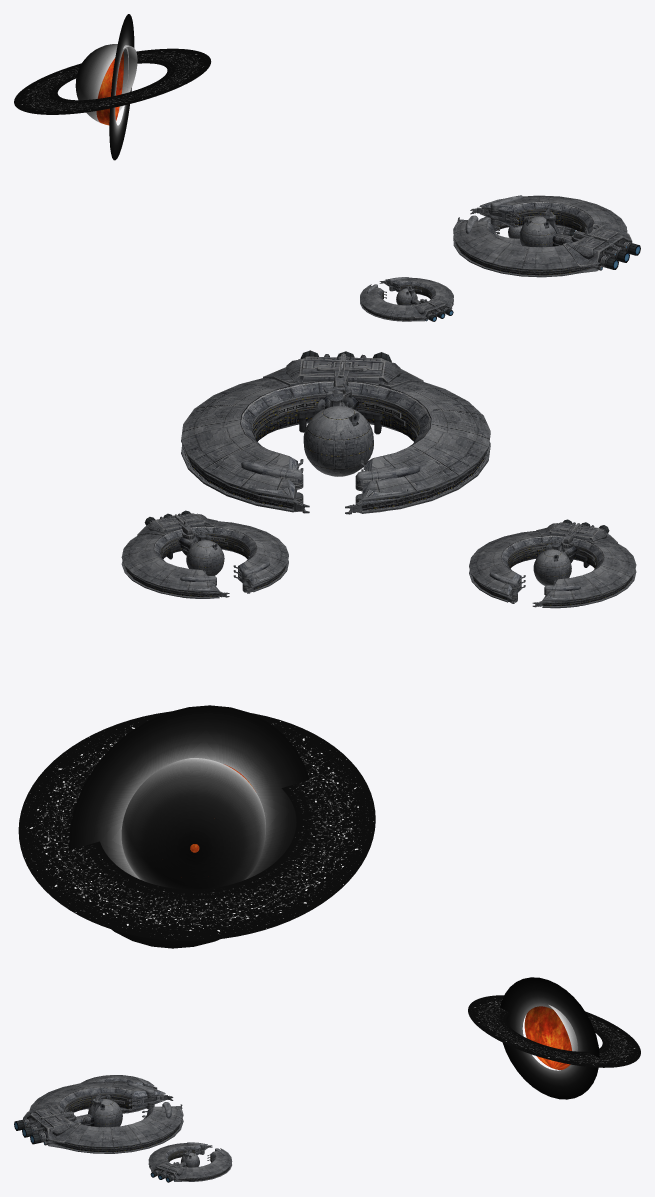
File: env_space_geonosis_01b_pre.glb
The picture shows the model from 3 angles, top to bottom: view 1: azimuth 30°, elevation 25°; view 2: azimuth 150°, elevation 25°; view 3: azimuth 270°, elevation 25°; orthographic projection. The views are drawn at different scales.
Visible parts, largest first — view 1: unit_ship_tradefederation_battleship_mesh (×2), planet_ring_01, planet_fresnel_mesh, planet_glow_mesh, unit_ship_tradefederation_battleship_c_mesh (3), planet_body_mesh; view 2: unit_ship_tradefederation_battleship_mesh (×3), planet_ring_01, planet_glow_mesh, planet_fresnel_mesh, unit_ship_tradefederation_battleship_c_mesh (3), unit_ship_tradefederation_battleship_c_mesh (1), unit_ship_tradefederation_battleship_c_mesh (2); view 3: unit_ship_tradefederation_battleship_mesh (×3), planet_glow_mesh, planet_ring_01, planet_body_mesh, unit_ship_tradefederation_battleship_c_mesh (3), planet_fresnel_mesh.
Part boxes in pixels (x1,y1,x2,y2): unit_ship_tradefederation_battleship_mesh (×2): (360, 195, 640, 321); planet_ring_01: (14, 48, 211, 114); planet_fresnel_mesh: (75, 44, 137, 123); planet_glow_mesh: (109, 14, 134, 160); unit_ship_tradefederation_battleship_c_mesh (3): (519, 207, 558, 247); planet_body_mesh: (96, 51, 123, 125); unit_ship_tradefederation_battleship_mesh (×3): (121, 350, 636, 608); planet_ring_01: (18, 711, 375, 940); planet_glow_mesh: (69, 705, 309, 948); planet_fresnel_mesh: (121, 758, 265, 889); unit_ship_tradefederation_battleship_c_mesh (3): (303, 383, 373, 476); unit_ship_tradefederation_battleship_c_mesh (1): (533, 537, 571, 585); unit_ship_tradefederation_battleship_c_mesh (2): (186, 528, 224, 576); unit_ship_tradefederation_battleship_mesh (×3): (14, 1075, 232, 1182); planet_glow_mesh: (500, 977, 599, 1099); planet_ring_01: (468, 995, 640, 1067); planet_body_mesh: (524, 1006, 571, 1069); unit_ship_tradefederation_battleship_c_mesh (3): (88, 1092, 122, 1127); planet_fresnel_mesh: (549, 1005, 577, 1067).
Bounding box in the file's own units: 679 × 258 × 1235.
Materials: 7 (7 with a texture image).
